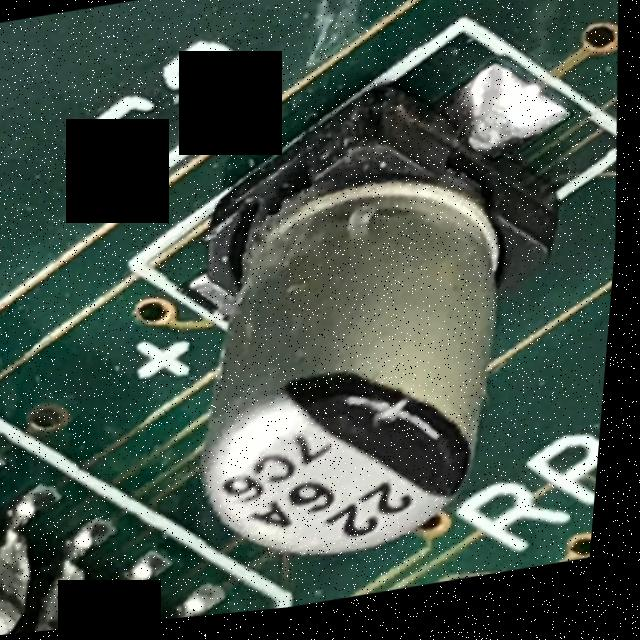capacitor 1V5: (159, 85, 594, 591)
